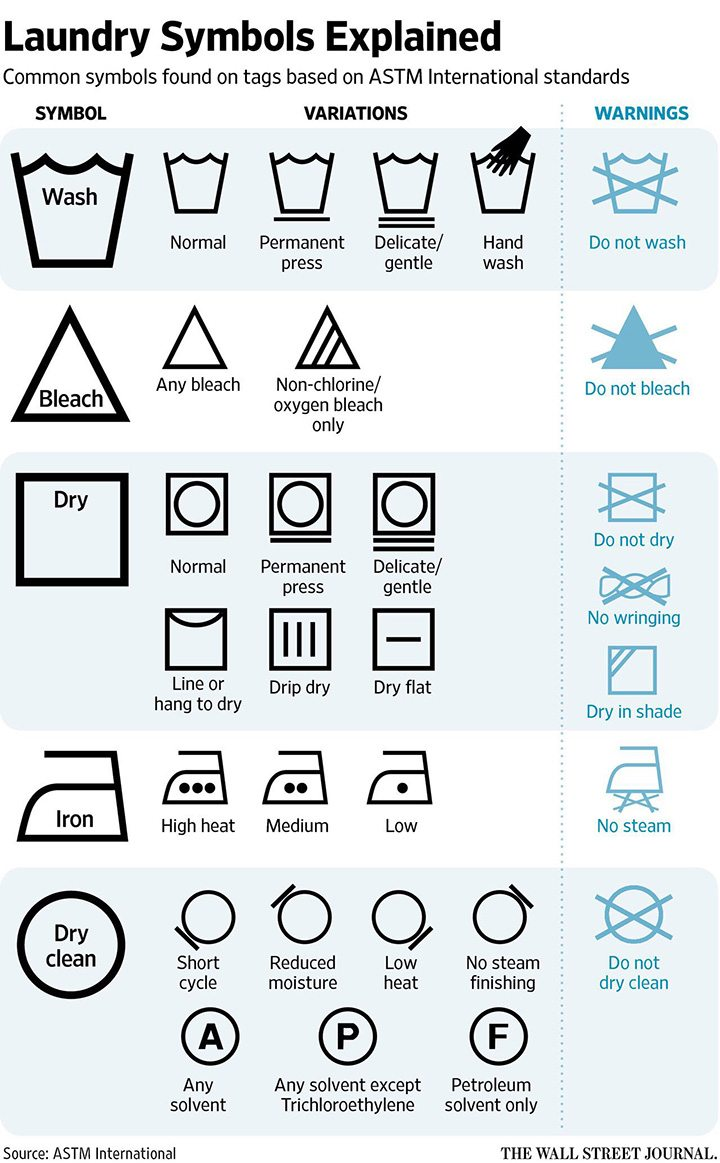do_not_bleach: (585, 307, 689, 376)
do_not_dry_clean: (583, 887, 686, 950)
do_not_wash: (585, 145, 688, 215)
